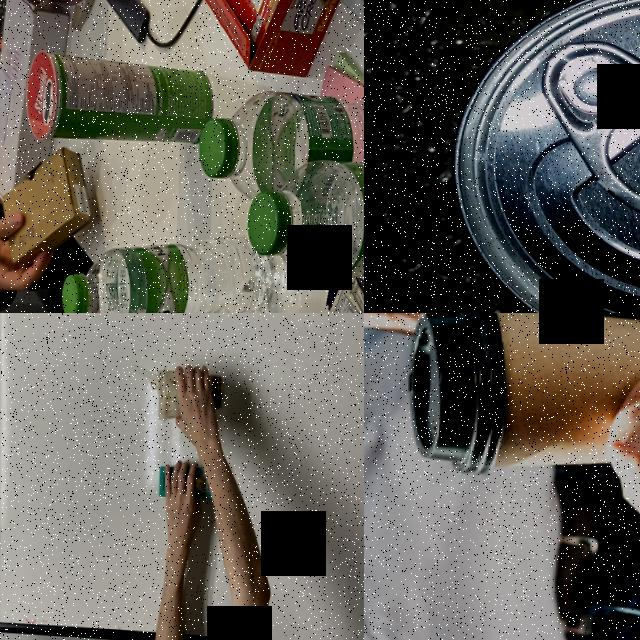bottle: (195, 88, 364, 213), (57, 223, 276, 313), (243, 152, 364, 292)
cup: (400, 313, 640, 497), (154, 364, 225, 424)
